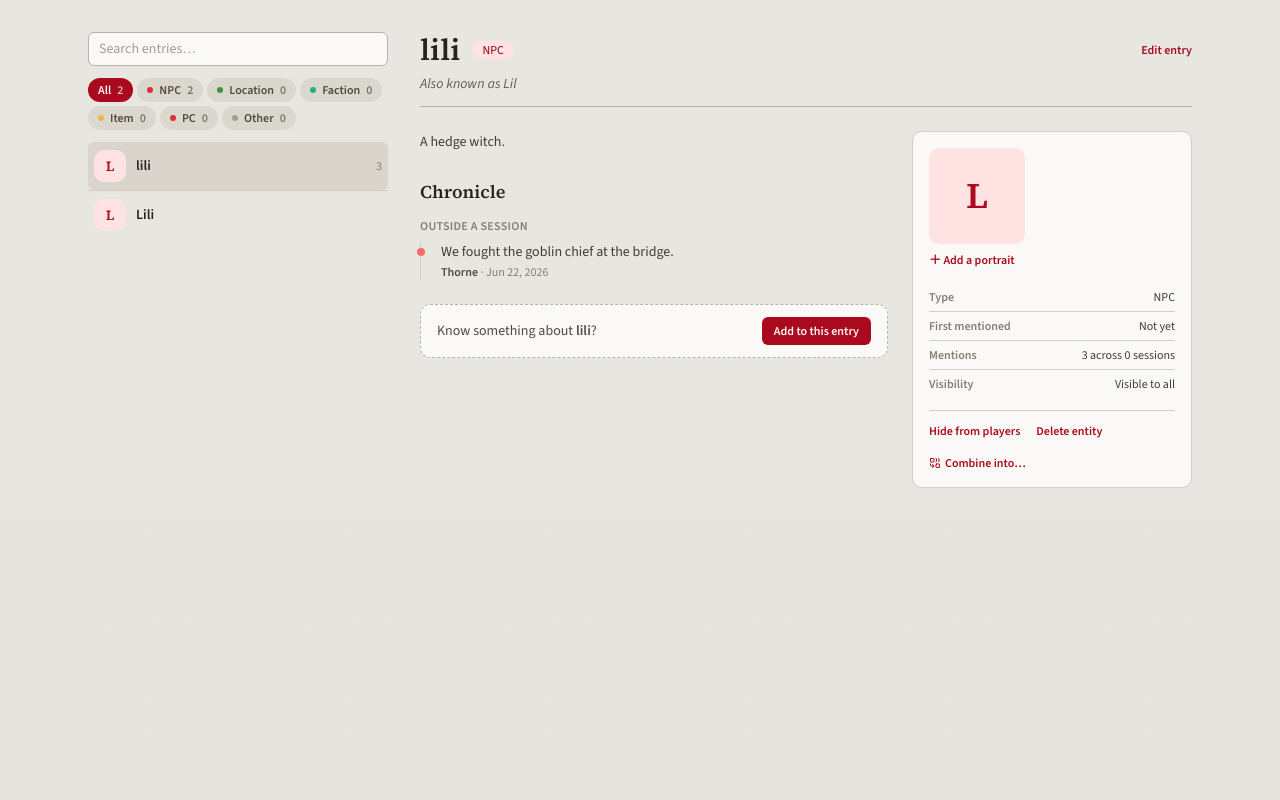
Test: EntityDetailPage (#248) › Combine into… (#1943) › warns that mentions render redacted when a REVEALED duplicate combines into a HIDDEN survivor
Click the button "Combine into…" at (977, 463), box [929, 455, 1026, 471]
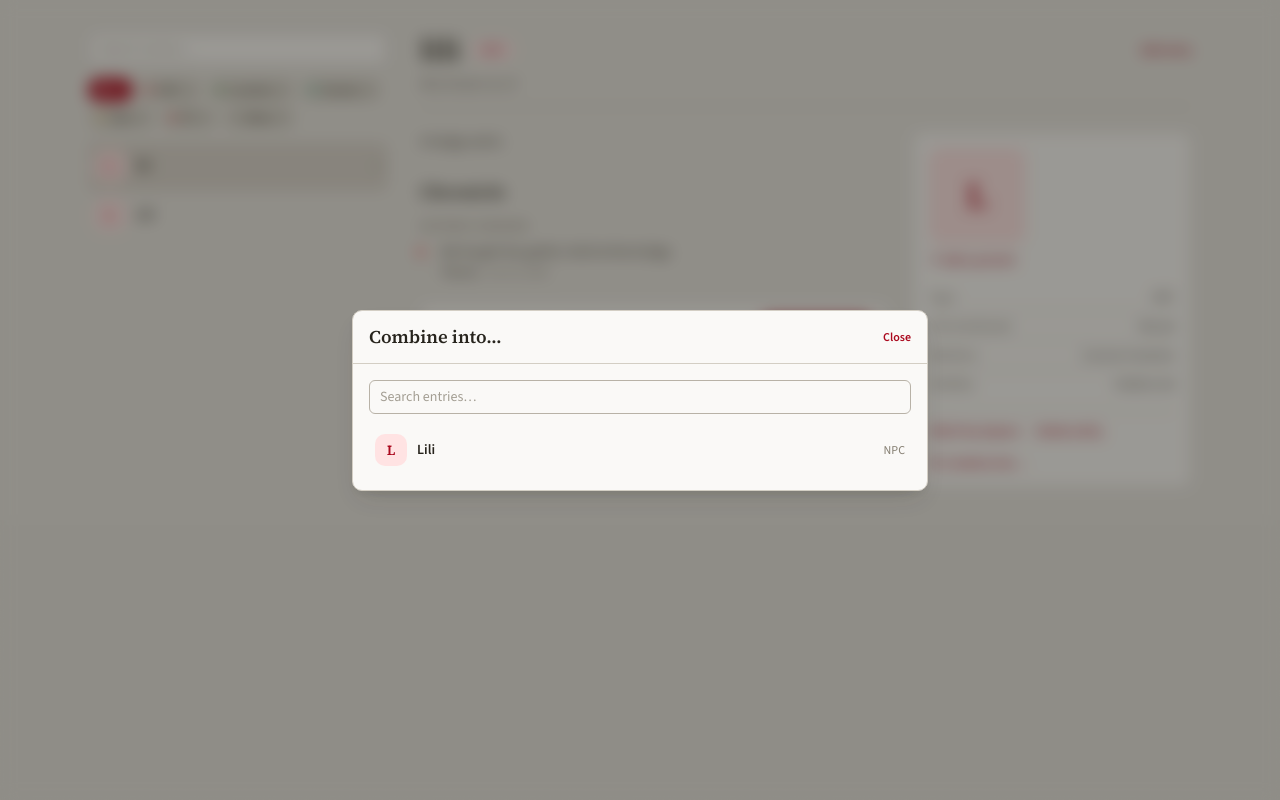
Click the button "L Lili NPC" at (391, 450), box [369, 426, 911, 474]
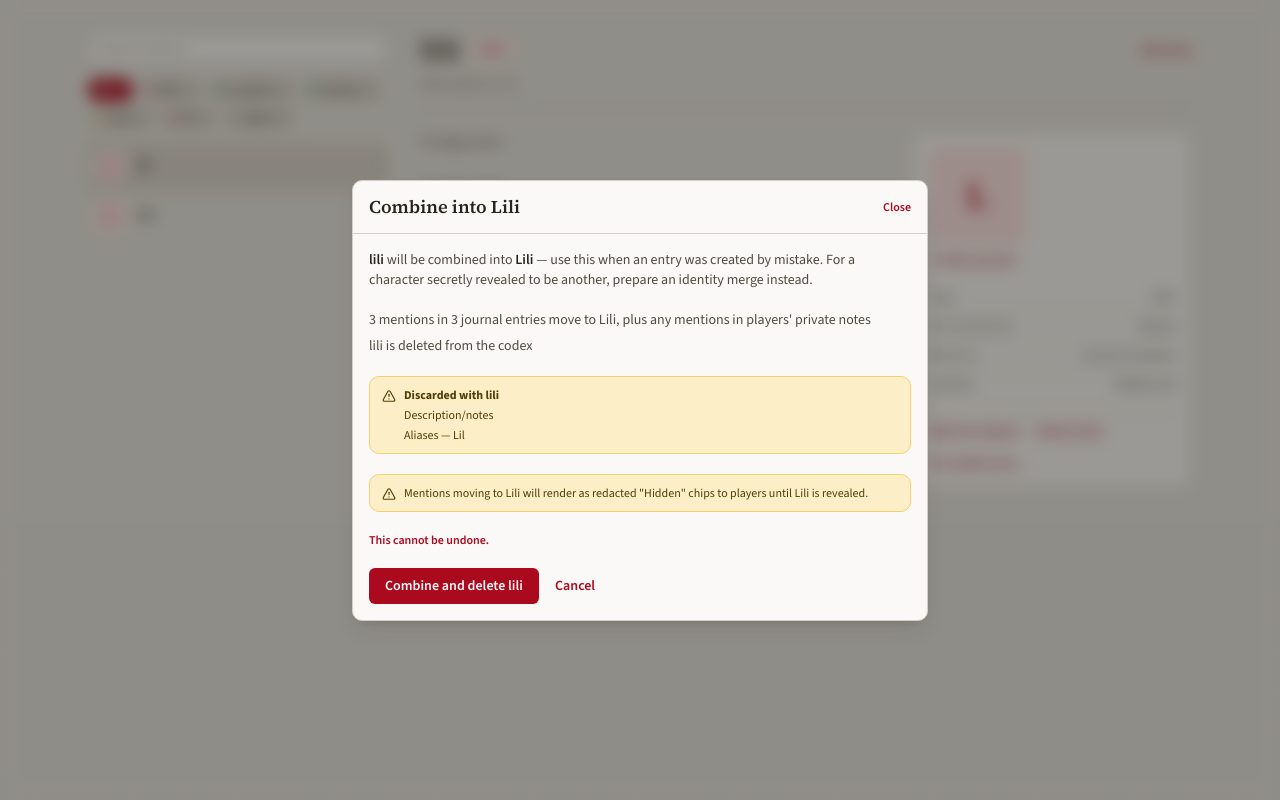
expect the text "render as redacted \"Hidden\" chips" is shown: met, box [520, 484, 794, 500]
